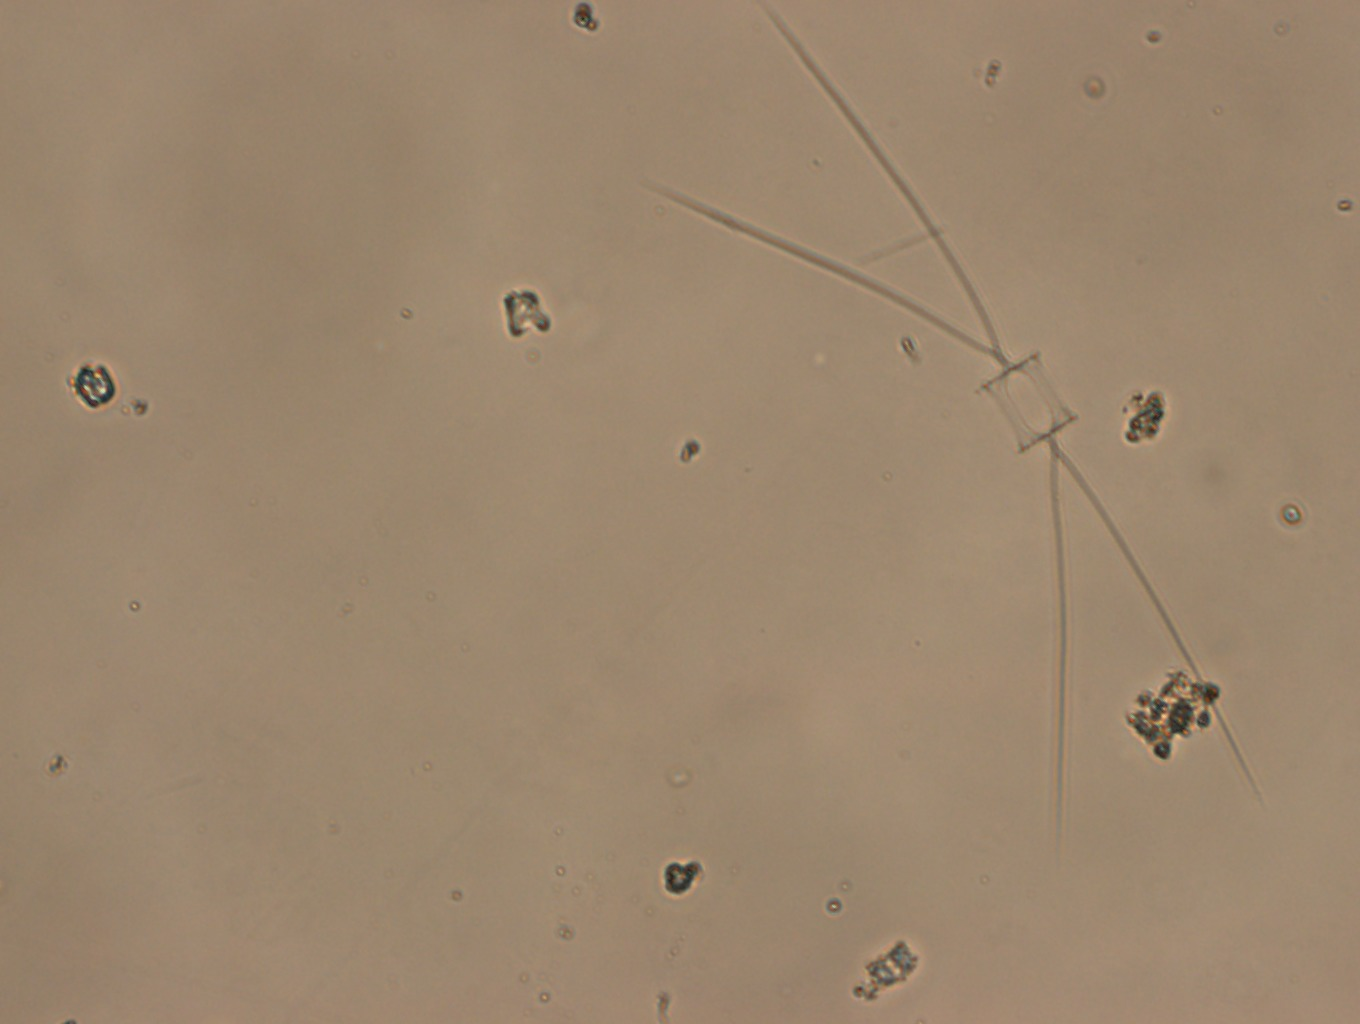chaetoceros: (626, 9, 1272, 853)
